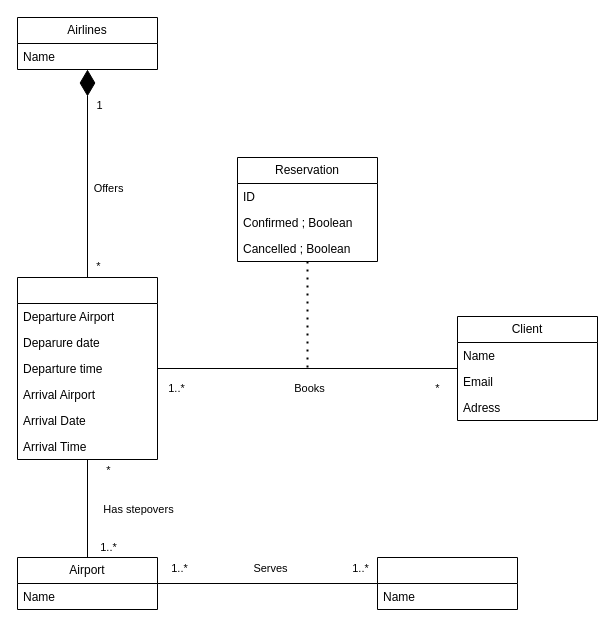
Some shapes in this 615 by 630 pixel diagram are drawn without their labels. The shapes that lost their labels are listed below. From the top down, each one's box as (x1, y1, x2, y2) in pixels, then its label:
(16, 276, 158, 460): Flight
(376, 556, 518, 610): City
